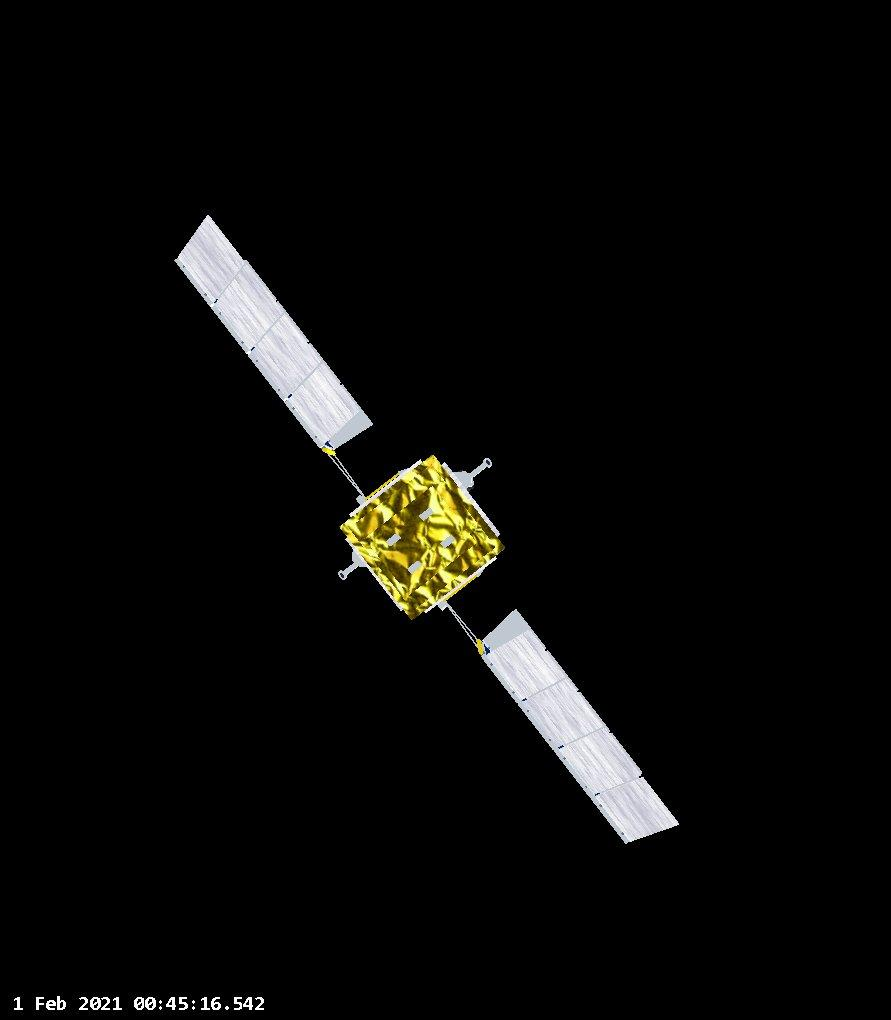body: (343, 453, 508, 624)
solar: (168, 210, 376, 458), (474, 605, 683, 851)
thruster: (451, 452, 499, 495), (332, 544, 371, 579)
